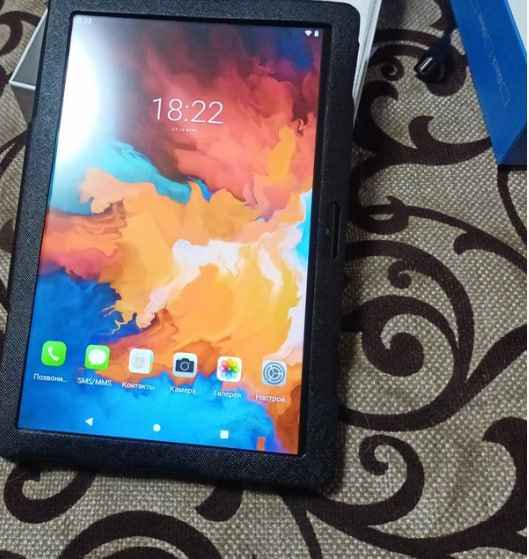tablet: (10, 10, 329, 459)
